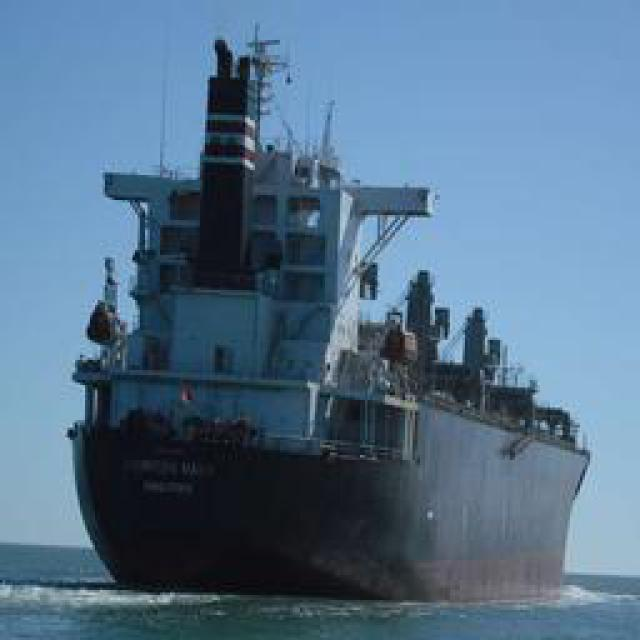Ship: (73, 12, 598, 625)
